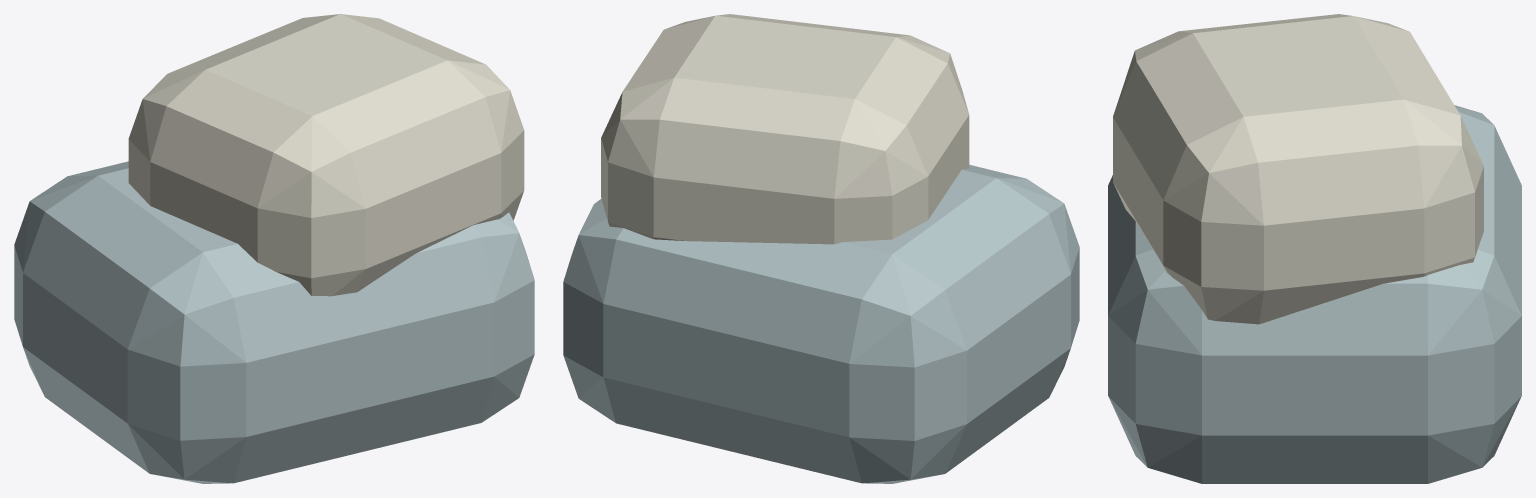
Rendered from boulder.glb.
3 views of the same model, side by side, from view 1: azimuth 30°, elevation 25°; view 2: azimuth 150°, elevation 25°; view 3: azimuth 270°, elevation 25° (orthographic). The views are drawn at different scales.
Parts seen in each view (by area): view 1: Sculpt__Slate, Sculpt__Limestone; view 2: Sculpt__Slate, Sculpt__Limestone; view 3: Sculpt__Limestone, Sculpt__Slate.
Boxes of the visible parts, x1,y1,x2,y2 form: Sculpt__Slate: [14, 161, 534, 483]; Sculpt__Limestone: [128, 14, 524, 296]; Sculpt__Slate: [563, 164, 1079, 483]; Sculpt__Limestone: [601, 14, 969, 244]; Sculpt__Limestone: [1113, 14, 1483, 324]; Sculpt__Slate: [1108, 105, 1521, 483].
Size of the model in its own units: 0.9117 by 0.745 by 0.75.
